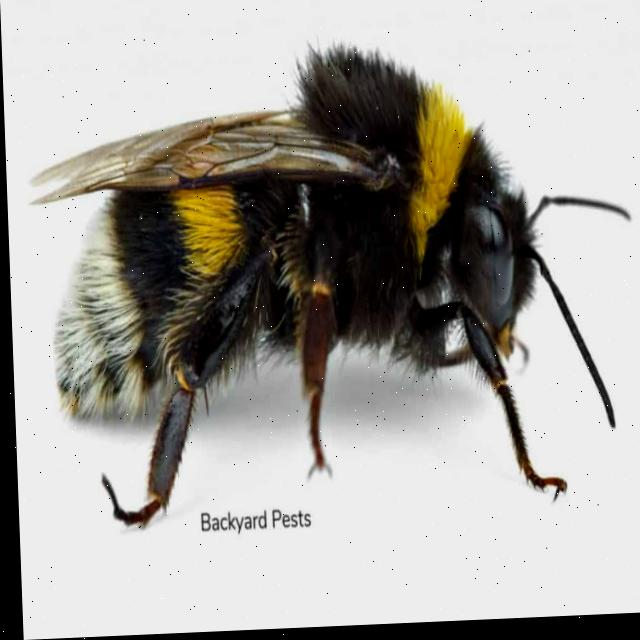Braunsapis: (28, 23, 623, 589)
